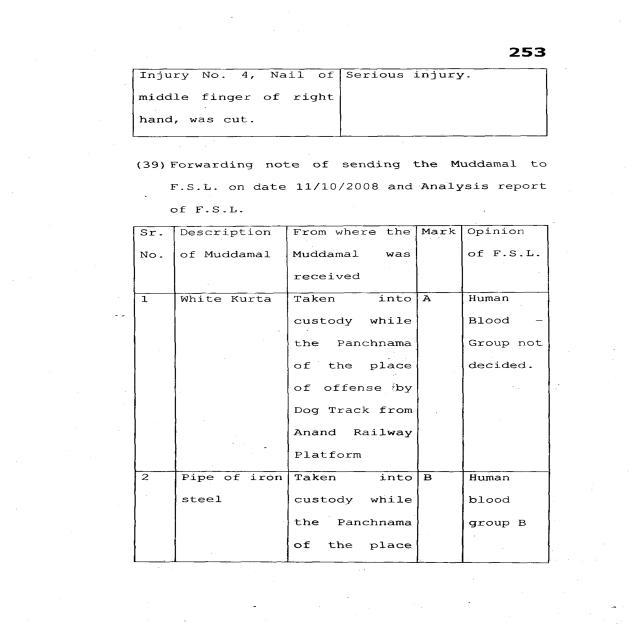page-number: (431, 0, 640, 62)
